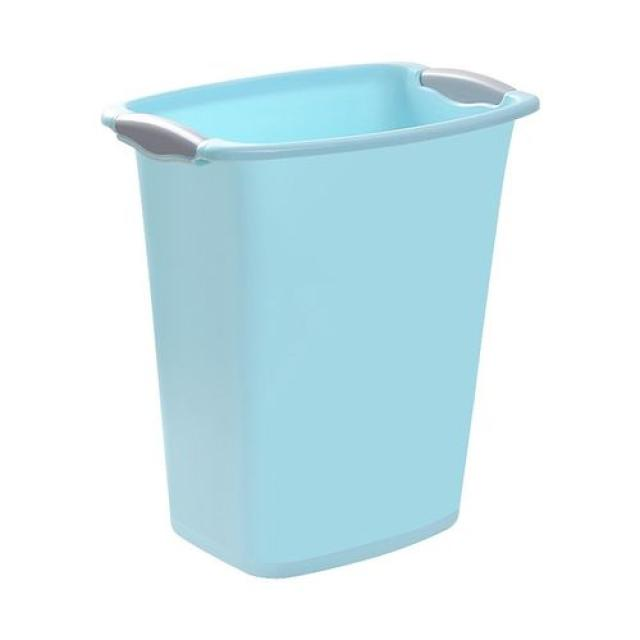dustbin: (98, 53, 546, 588)
